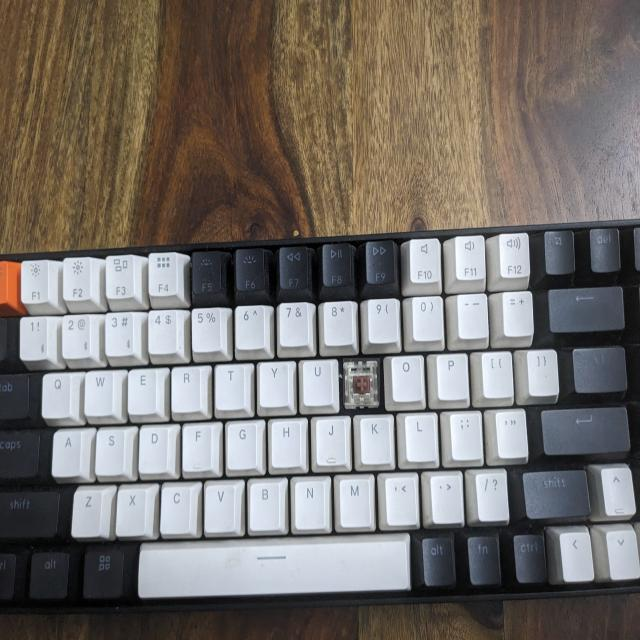C: (343, 358, 380, 405)
